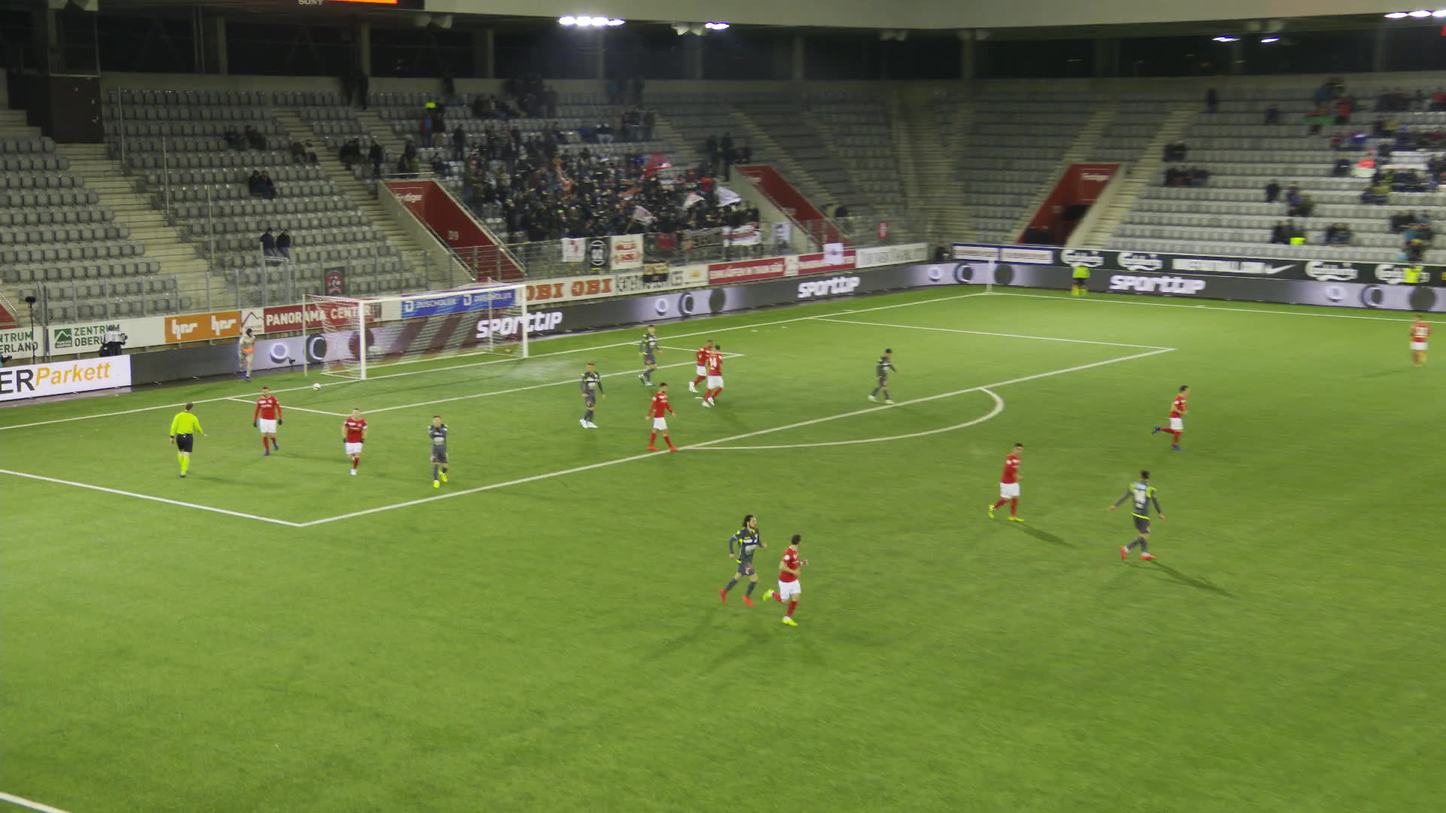ball: (312, 382, 321, 390)
player: (1114, 471, 1168, 565), (720, 518, 767, 612), (771, 534, 811, 625), (992, 443, 1032, 523), (573, 364, 616, 432), (1152, 383, 1193, 452), (644, 380, 679, 454), (700, 344, 735, 408), (343, 405, 374, 477), (256, 386, 287, 458), (638, 324, 671, 388), (688, 337, 724, 394), (429, 415, 456, 489), (875, 349, 905, 406), (1420, 314, 1441, 364), (239, 327, 259, 379)
referee: (168, 400, 206, 478), (1079, 260, 1100, 299)
